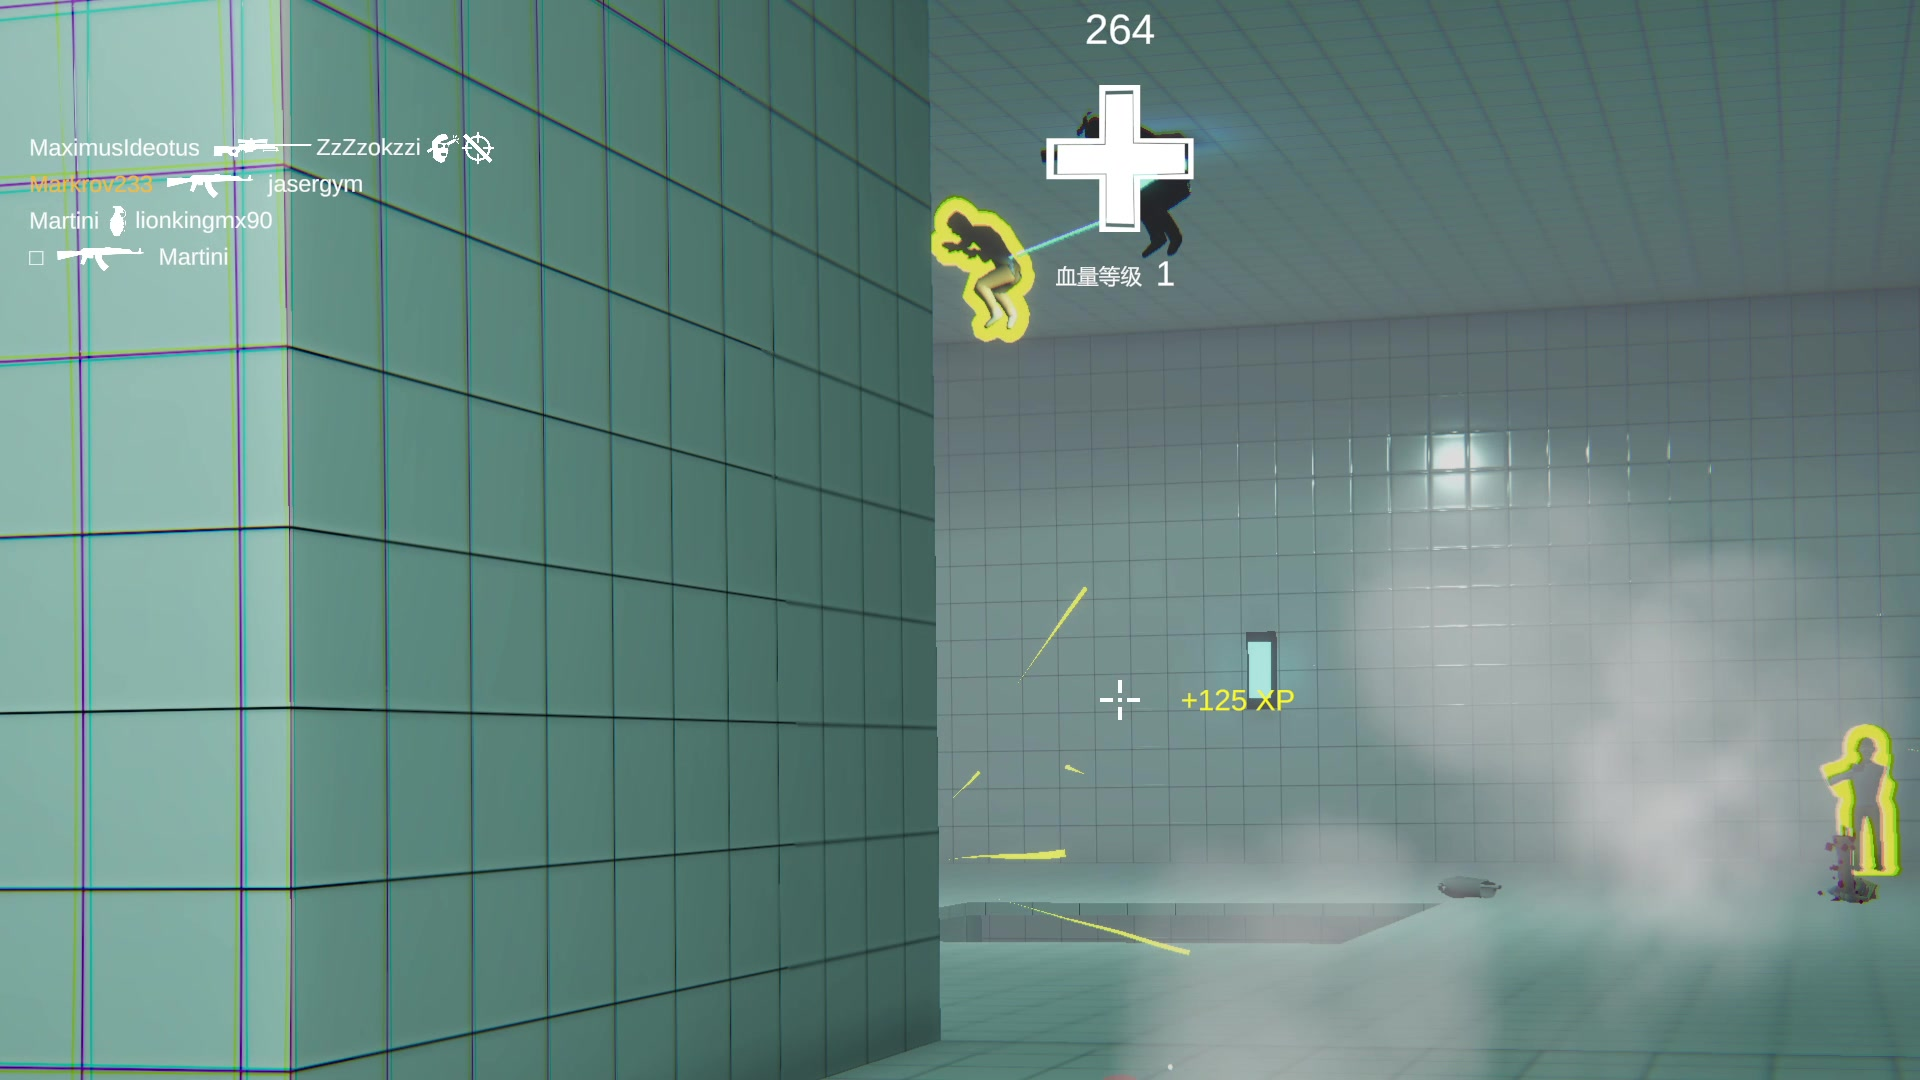human: (929, 195, 1041, 345), (1833, 726, 1897, 872)
